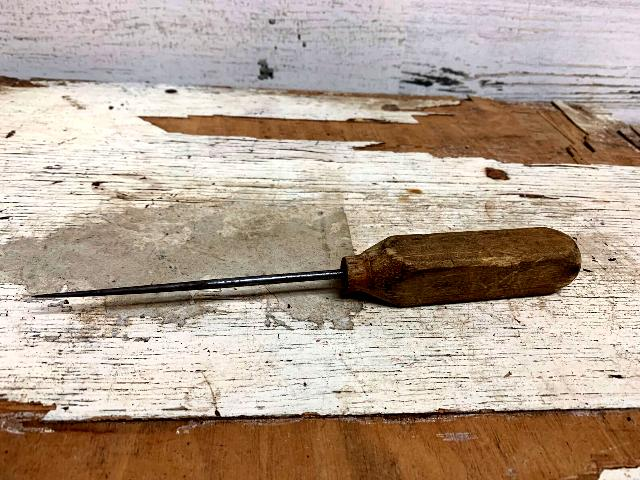ice pick: (32, 226, 580, 308)
